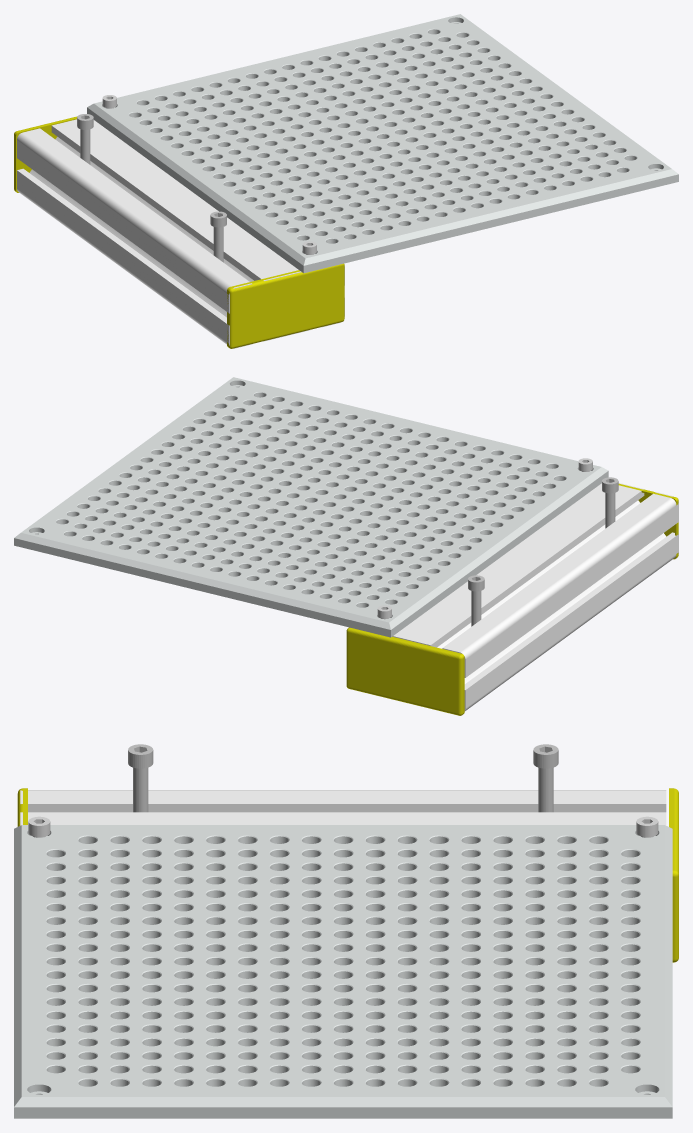
The model's file is WeldedRackStand.fbx.
3 renders of one model, top to bottom at view 1: azimuth 30°, elevation 25°; view 2: azimuth 150°, elevation 25°; view 3: azimuth 270°, elevation 25°, orthographic. The views are drawn at different scales.
Parts seen in each view (by area): view 1: D114319A; view 2: D114319A; view 3: D114319A.
Boxes of the visible parts, x1=… form: D114319A: x1=14, y1=14, x2=678, y2=348; D114319A: x1=14, y1=377, x2=678, y2=715; D114319A: x1=14, y1=744, x2=678, y2=1118.
Size of the model in its own units: 31 by 6.65 by 26.25.
